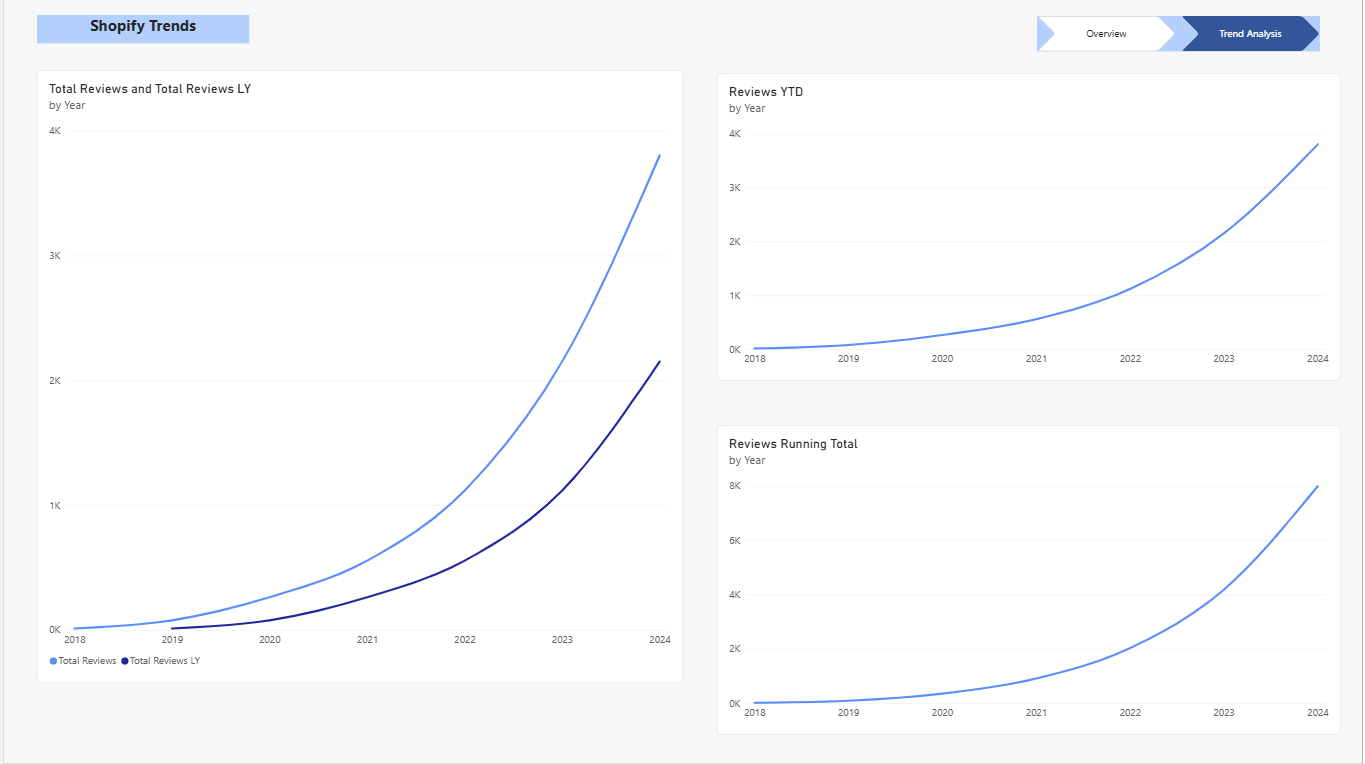

Layout of this report page (visuals, bound fields, positions):
{"tool":"powerbi","page":{"name":"Trend Analysis","canvas":[1920,1080],"ordinal":1},"visuals":[{"type":"lineChart","fields":{"Category":["dim_date.Date.Variation.Date Hierarchy.Year","dim_date.Date.Variation.Date Hierarchy.Quarter","dim_date.Date.Variation.Date Hierarchy.Month","dim_date.Date.Variation.Date Hierarchy.Day"],"Y":["reviews.Total Reviews","reviews.Total Reviews LY"]},"box":[46.7,100.4,913.3,866.7],"z":0},{"type":"lineChart","fields":{"Category":["dim_date.Date.Variation.Date Hierarchy.Year","dim_date.Date.Variation.Date Hierarchy.Quarter","dim_date.Date.Variation.Date Hierarchy.Month","dim_date.Date.Variation.Date Hierarchy.Day"],"Y":["reviews.Reviews Running Total"]},"box":[1008.1,602.3,882.2,438.3],"z":1},{"type":"lineChart","fields":{"Category":["dim_date.Date.Variation.Date Hierarchy.Year","dim_date.Date.Variation.Date Hierarchy.Quarter","dim_date.Date.Variation.Date Hierarchy.Month","dim_date.Date.Variation.Date Hierarchy.Day"],"Y":["reviews.Reviews YTD"]},"box":[1008.1,104.6,882.2,435.5],"z":2},{"type":"pageNavigator","box":[1460.5,24,400,50],"z":3},{"type":"textbox","box":[46.7,22.6,299.7,39.6],"z":4}]}

Visuals, with their boxes in screenshot pixels (x1, y1, x2, y2), scaled from the page's 1920x1080 canvas onto the 1365x764 screenshot:
lineChart - dim_date.Date.Variation.Date Hierarchy.Year x dim_date.Date.Variation.Date Hierarchy.Quarter: (left=33, top=71, right=682, bottom=684)
lineChart - dim_date.Date.Variation.Date Hierarchy.Year x dim_date.Date.Variation.Date Hierarchy.Quarter: (left=717, top=426, right=1344, bottom=736)
lineChart - dim_date.Date.Variation.Date Hierarchy.Year x dim_date.Date.Variation.Date Hierarchy.Quarter: (left=717, top=74, right=1344, bottom=382)
pageNavigator: (left=1038, top=17, right=1323, bottom=52)
textbox: (left=33, top=16, right=246, bottom=44)
